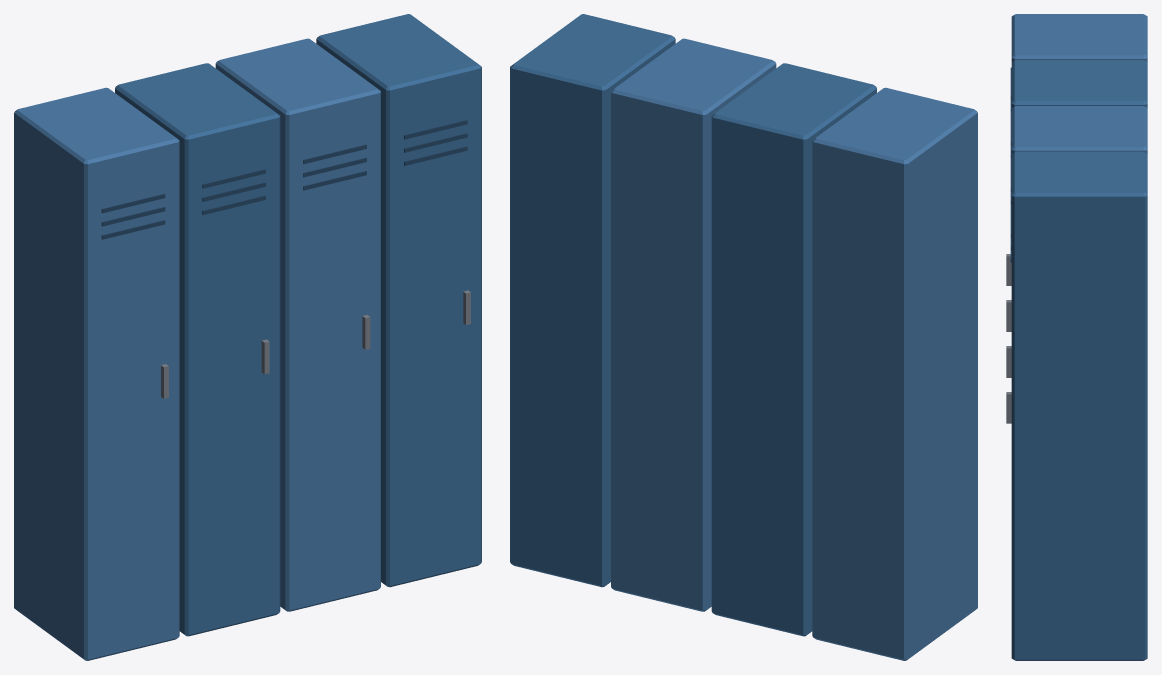
The model's file is locker_row.glb.
The picture shows the model from 3 angles, left to right: view 1: azimuth 30°, elevation 25°; view 2: azimuth 150°, elevation 25°; view 3: azimuth 270°, elevation 25°; orthographic projection. The views are drawn at different scales.
Visible parts, largest first — view 1: locker_row; view 2: locker_row; view 3: locker_row.
Part boxes in pixels (x1,y1,x2,y2): locker_row: (14, 14, 481, 660); locker_row: (510, 14, 977, 660); locker_row: (1006, 14, 1147, 660).
Size of the model in its own units: 1.58 by 1.9 by 0.52.
